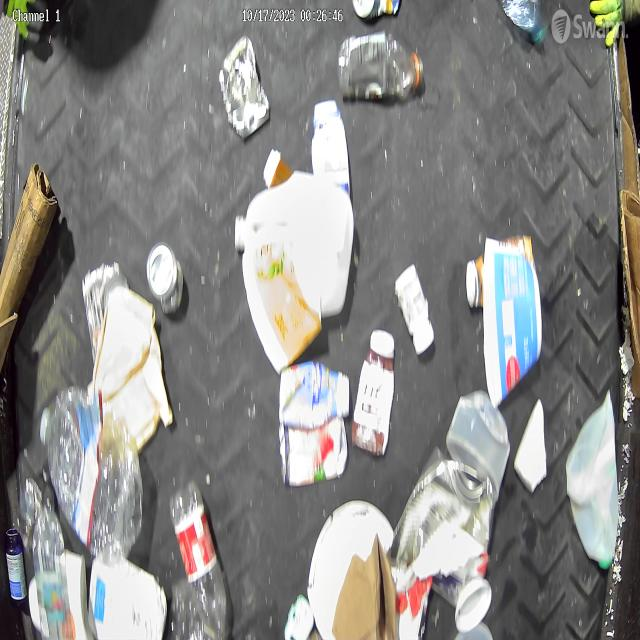can: (394, 454, 492, 566), (219, 34, 270, 140), (81, 262, 128, 368), (145, 241, 185, 312)
milk_jug: (234, 169, 355, 323), (565, 390, 619, 570)
non_white_jug: (93, 286, 162, 454), (92, 556, 166, 640)
plastic_bottle: (40, 387, 142, 558), (171, 479, 228, 636), (32, 483, 72, 640), (338, 31, 424, 102), (500, 0, 546, 45)
